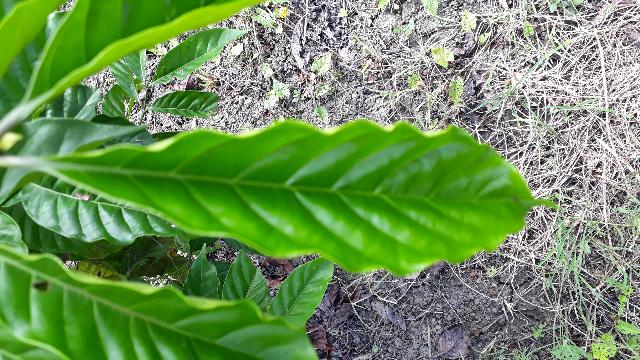healthy: (32, 119, 572, 278)
